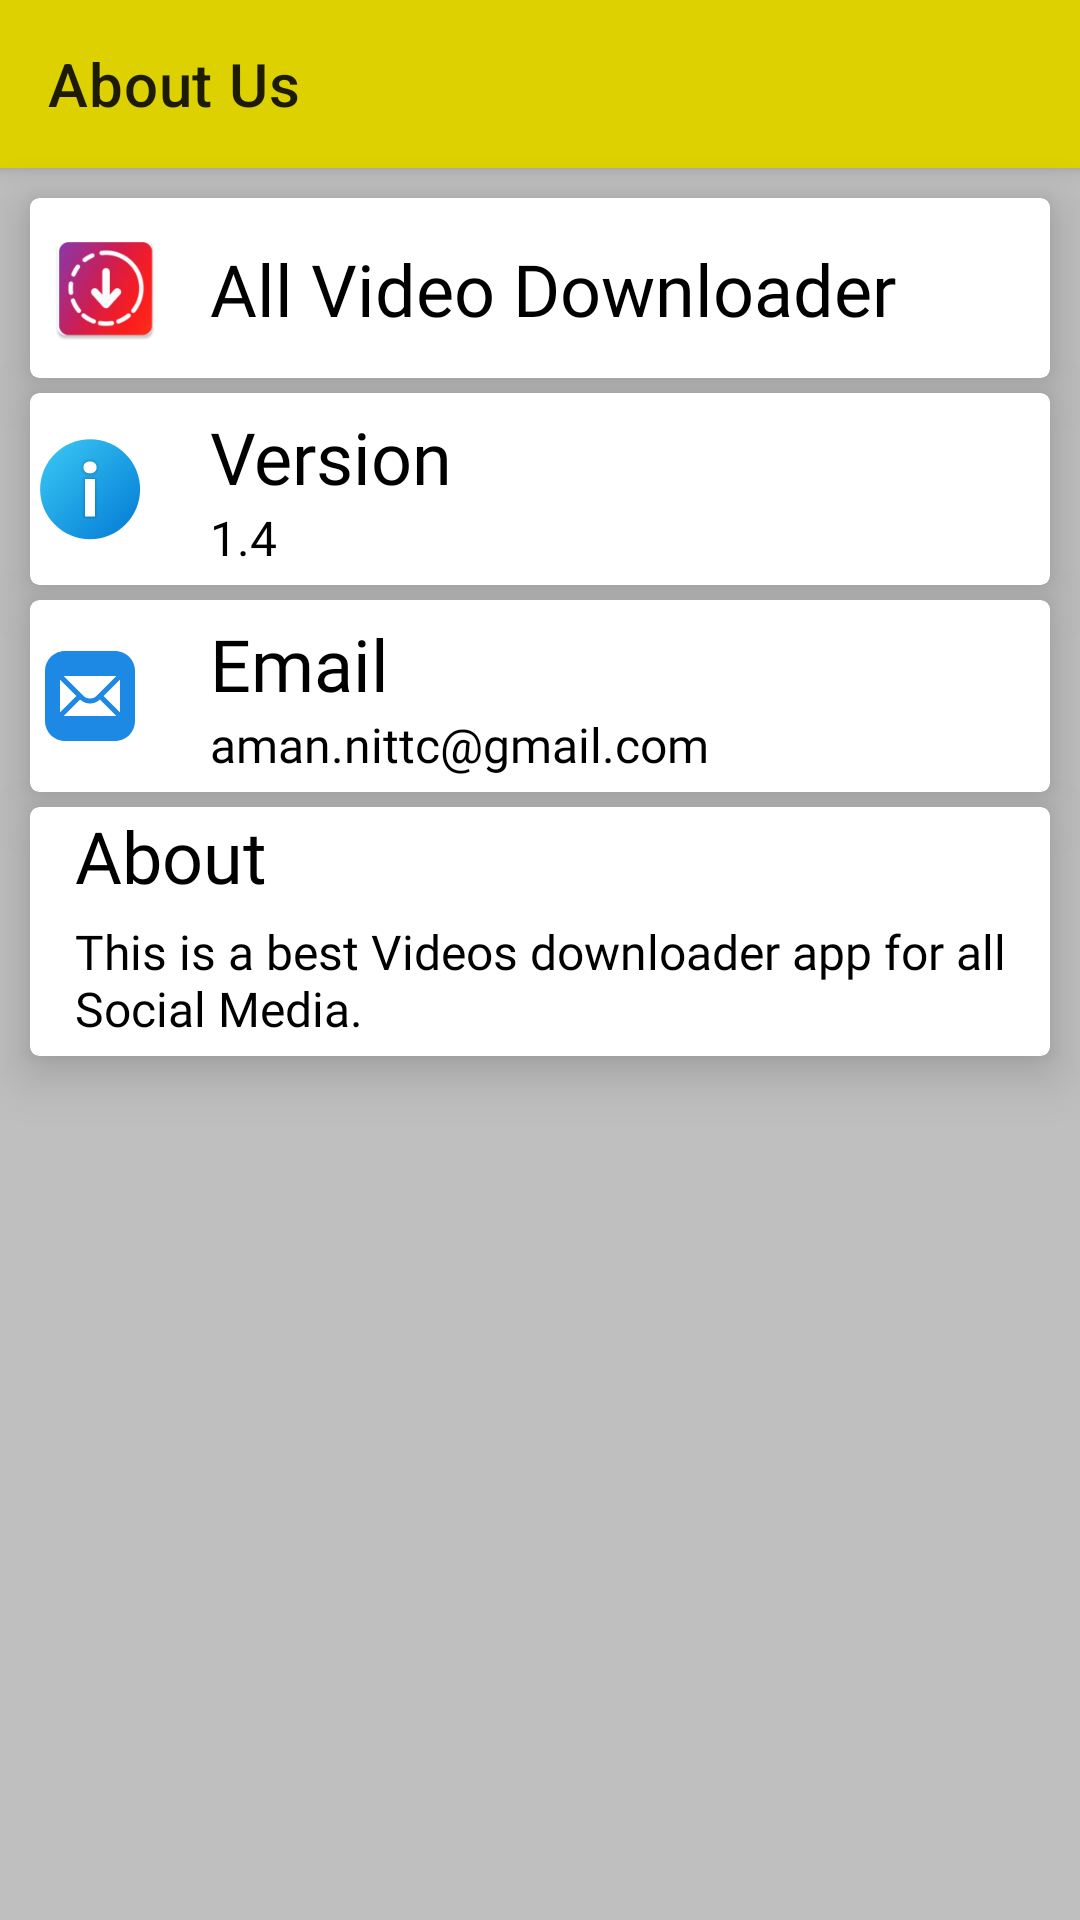

Icons on this 1080 x 1920 Android screen, each with its box as bbox=[x1, y1, x2, y2]:
info: bbox=[40, 439, 140, 540]
